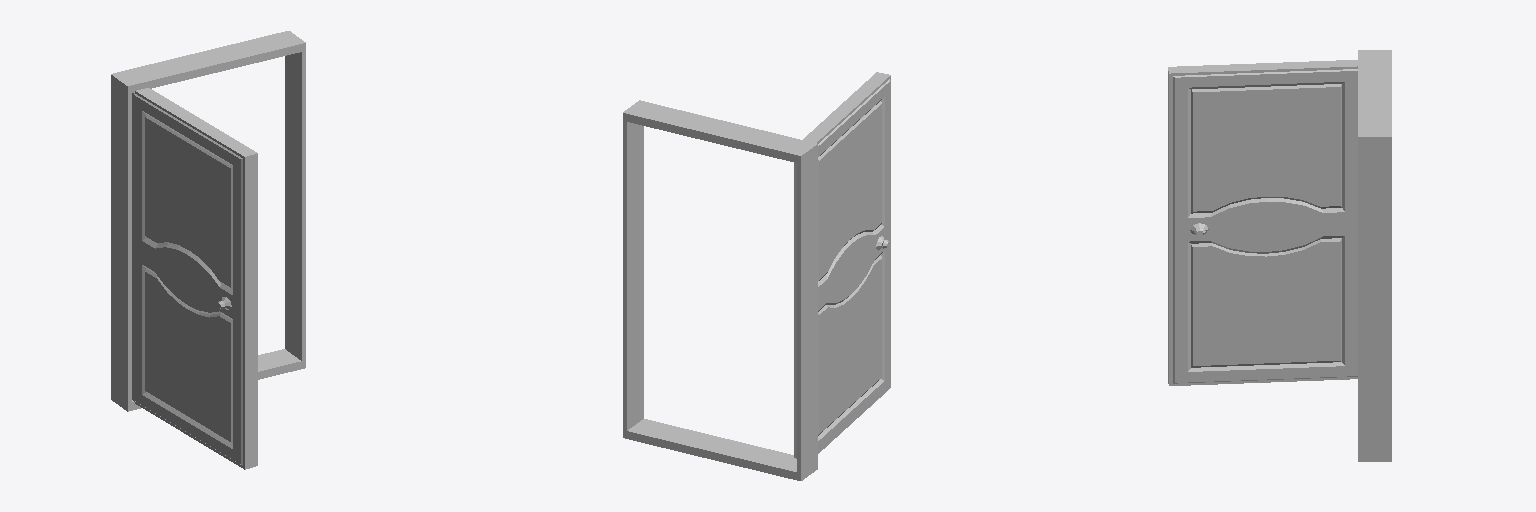
Rendered from drzwiok_000008.obj.
3 views of the same model, side by side, from view 1: azimuth 30°, elevation 25°; view 2: azimuth 150°, elevation 25°; view 3: azimuth 270°, elevation 25° (orthographic).
Visible parts, largest first — view 1: Door_4.001_Cube.001, Kostka; view 2: Door_4.001_Cube.001, Kostka; view 3: Door_4.001_Cube.001, Kostka.
Part boxes in pixels (x1,y1,x2,y2): Door_4.001_Cube.001: (132, 88, 257, 469); Kostka: (111, 31, 305, 411); Door_4.001_Cube.001: (794, 72, 890, 458); Kostka: (623, 100, 817, 480); Door_4.001_Cube.001: (1168, 60, 1357, 385); Kostka: (1358, 50, 1391, 461).
Size of the model in its own units: 0.7416 by 1.29 by 0.8081.